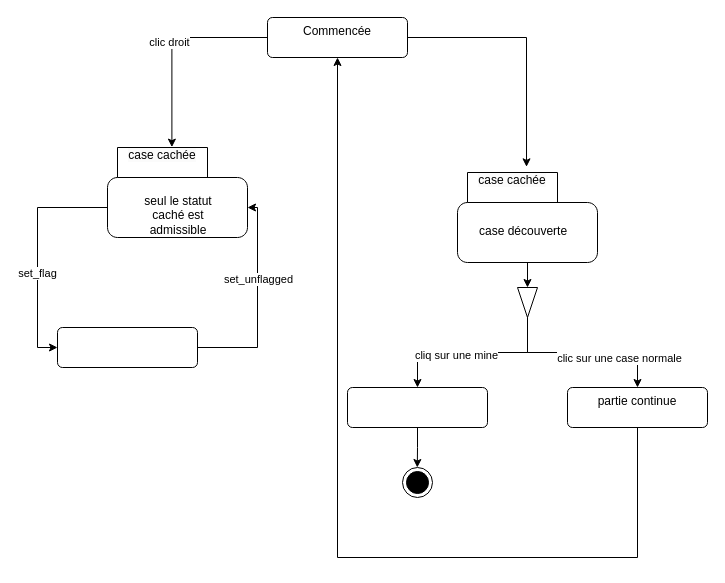
Some shapes in this 725 by 583 pixel diagram are drawn without their labels. The centre of each missing label's shape, as x and y in pixels:
"marquée par un drapeau" goes at (x=127, y=347).
"partie perdue" goes at (x=417, y=407).
